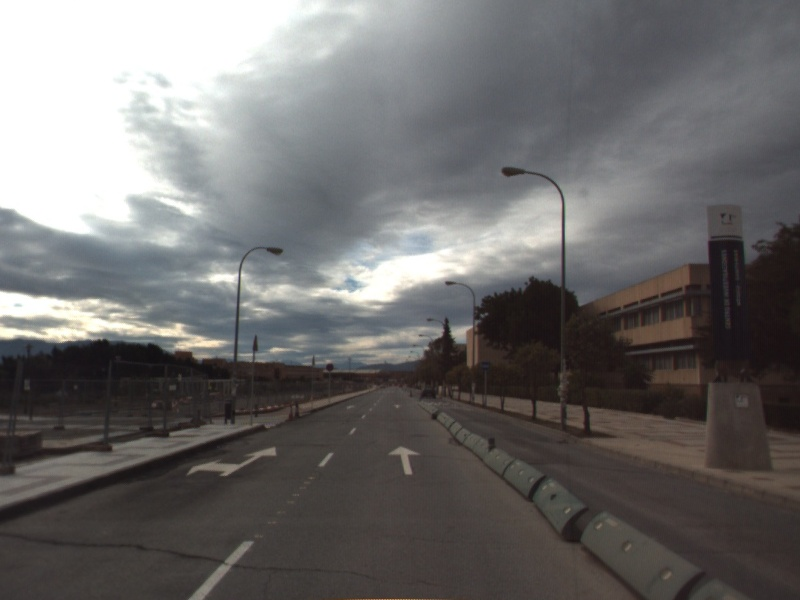STRAIGHT: (386, 443, 423, 477)
STRAIGHT_LEFT: (184, 444, 279, 479)
